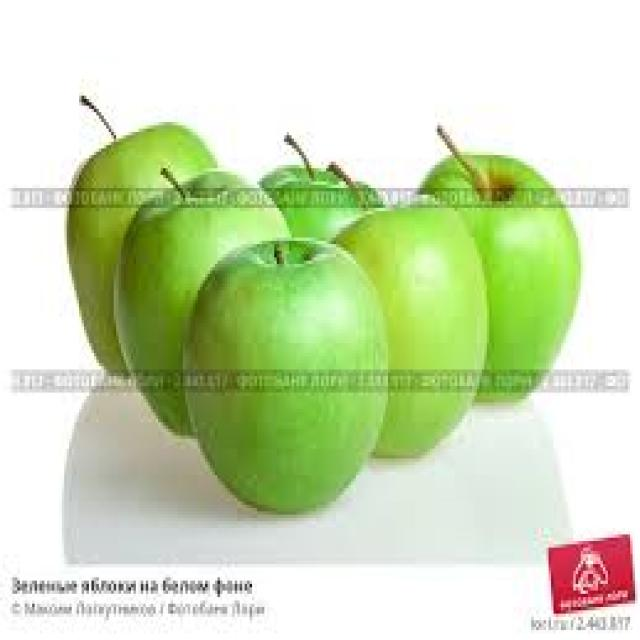non_orange: (194, 195, 389, 526), (98, 149, 311, 443), (401, 112, 592, 426), (44, 98, 234, 400), (230, 90, 415, 397), (311, 175, 490, 485)
